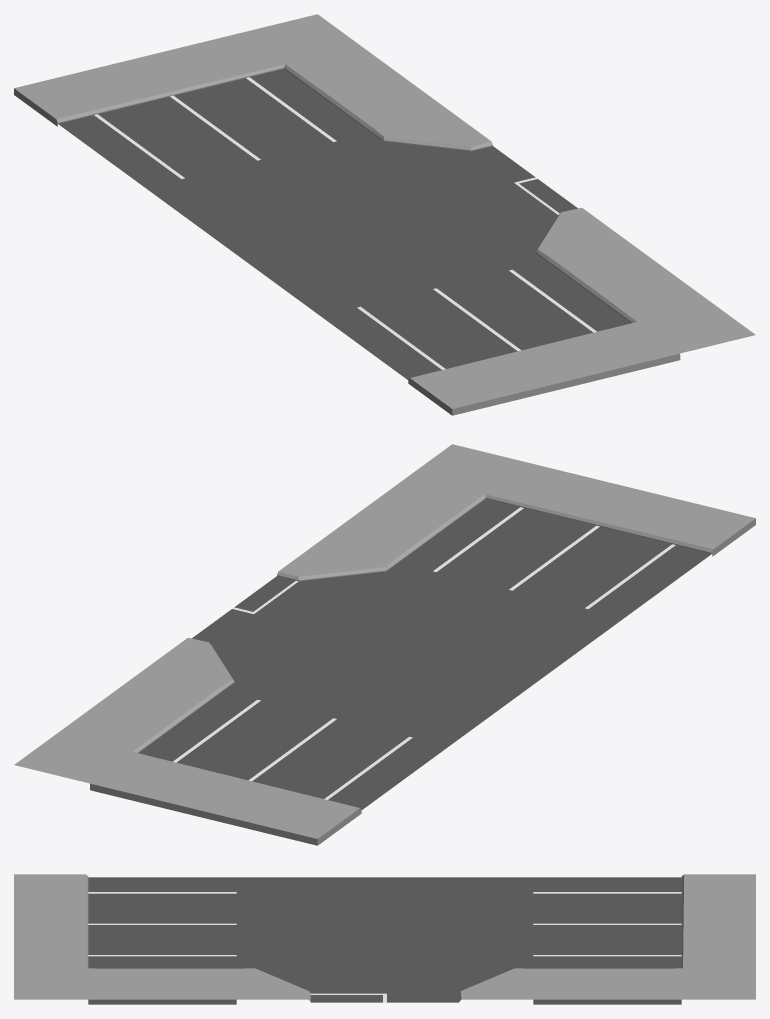
Rendered from roadParkingEnter.fbx.
3 renders of one model, top to bottom at view 1: azimuth 30°, elevation 25°; view 2: azimuth 150°, elevation 25°; view 3: azimuth 270°, elevation 25°, orthographic. The views are drawn at different scales.
Visible parts, largest first — view 1: RoadParkingEnter; view 2: RoadParkingEnter; view 3: RoadParkingEnter.
Part boxes in pixels (x1,y1,x2,y2): RoadParkingEnter: (14,14,755,415); RoadParkingEnter: (14,444,755,845); RoadParkingEnter: (14,874,755,1004).
Size of the model in its own units: 2000 by 42.29 by 5000.
